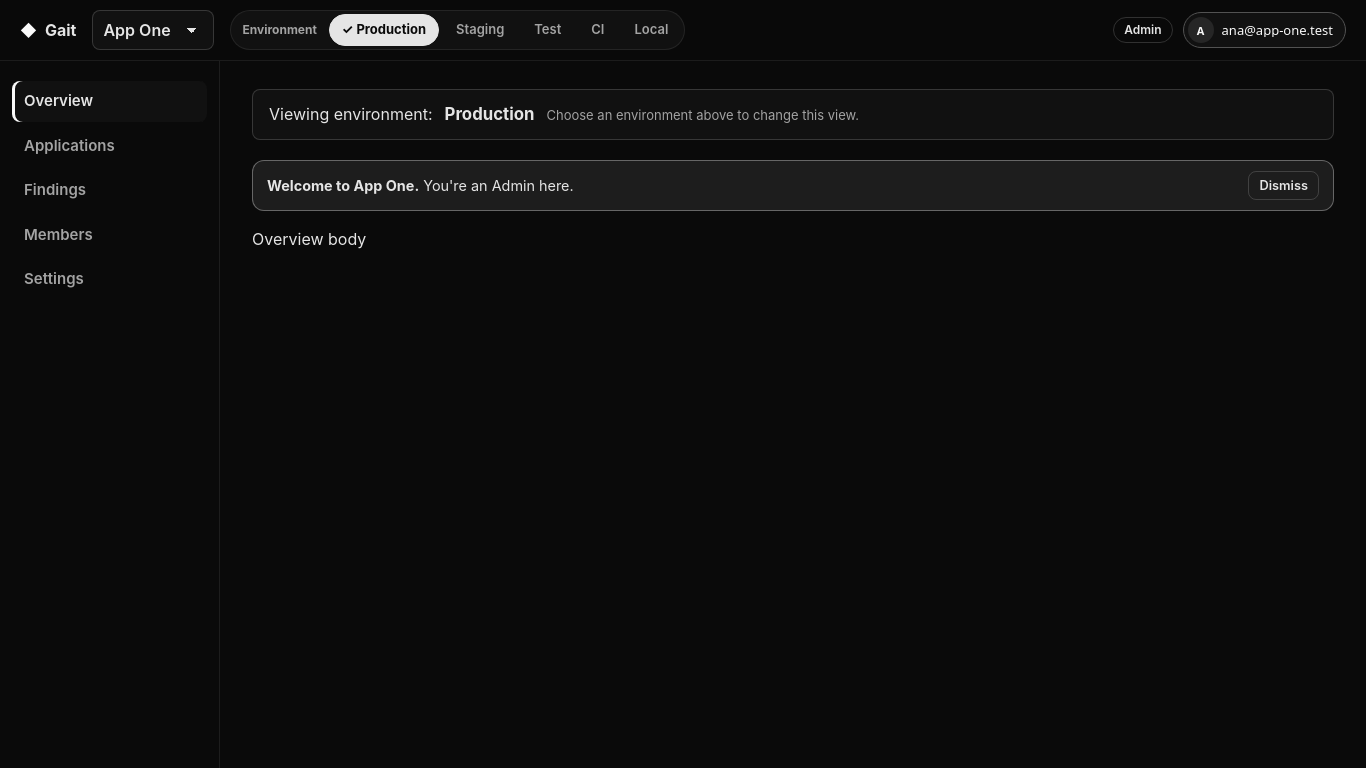
Scenario: F4 welcome note › after joining, a one-time welcome names the company and role
This screenshot has width=1366, height=768.
Click the button "Dismiss" at (1284, 186), box [1248,171,1319,200]
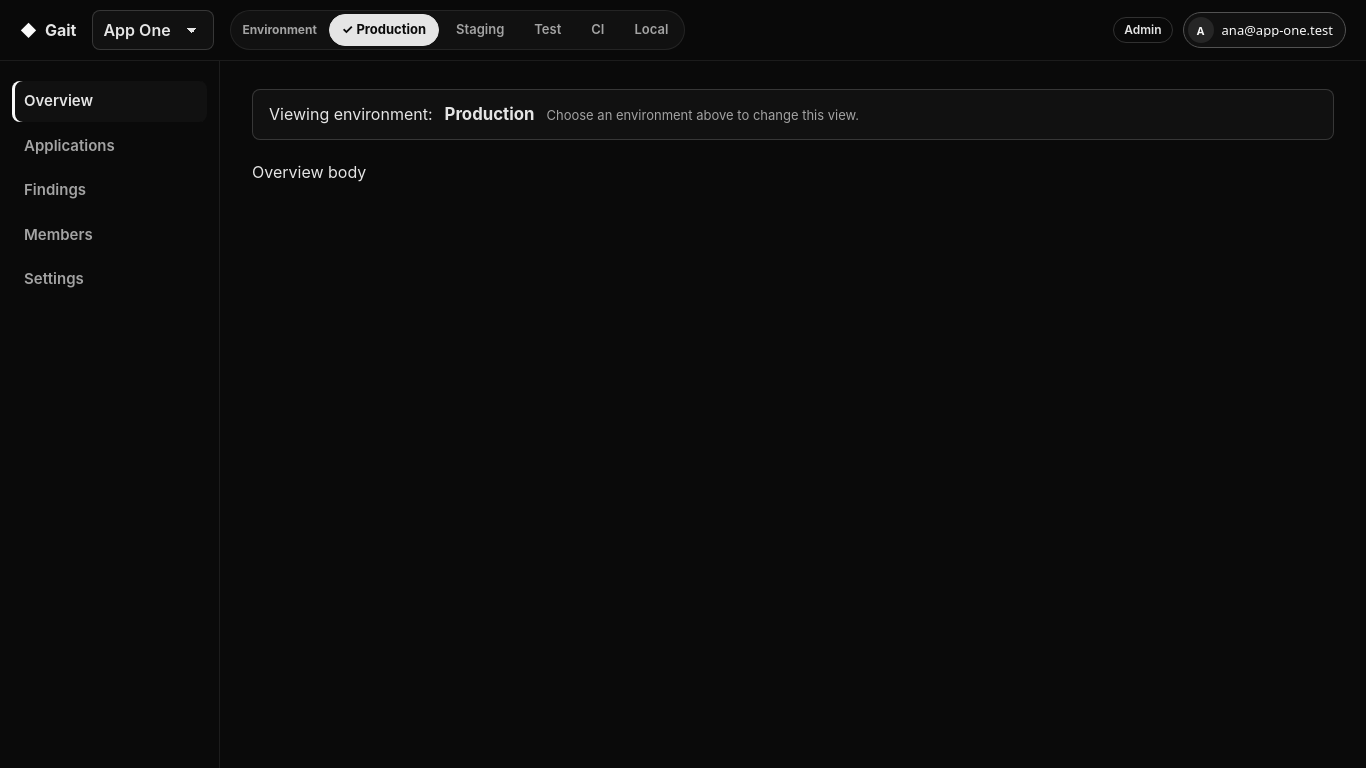
Result: the text "Welcome to App One." is gone
